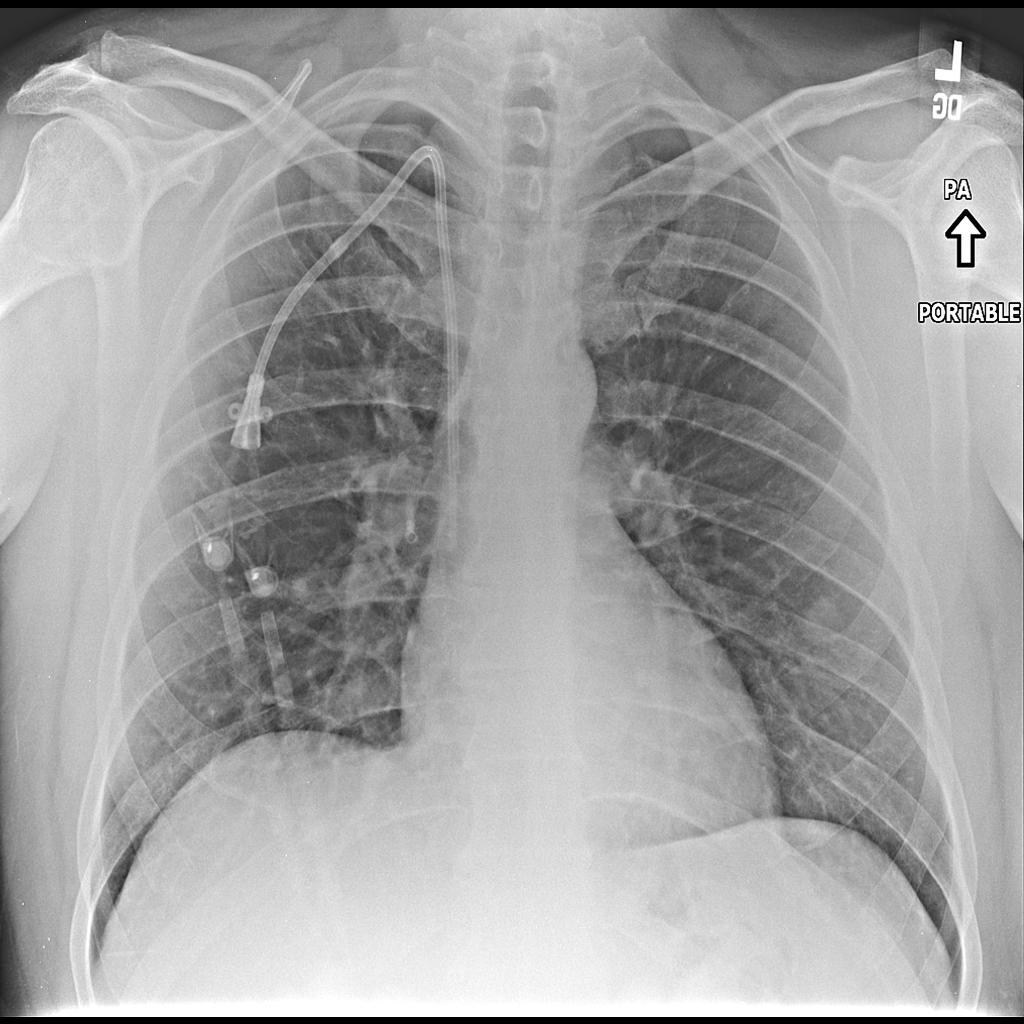Nodule: (798, 589, 856, 654)
